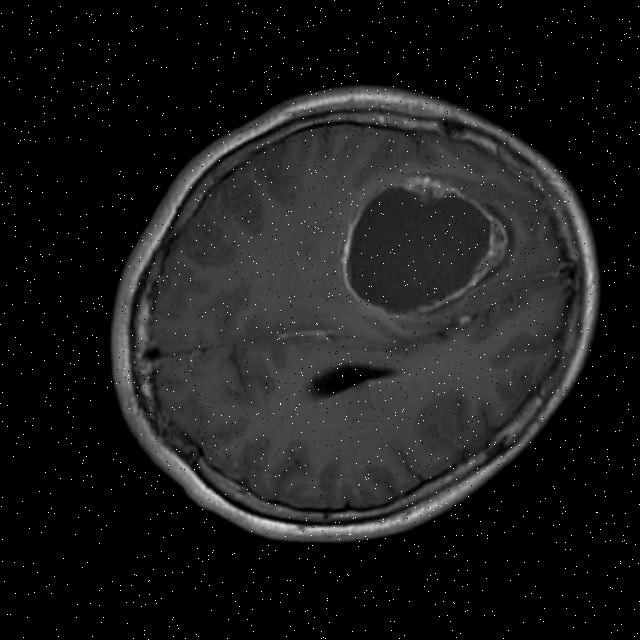Glioma: (331, 155, 518, 327)
